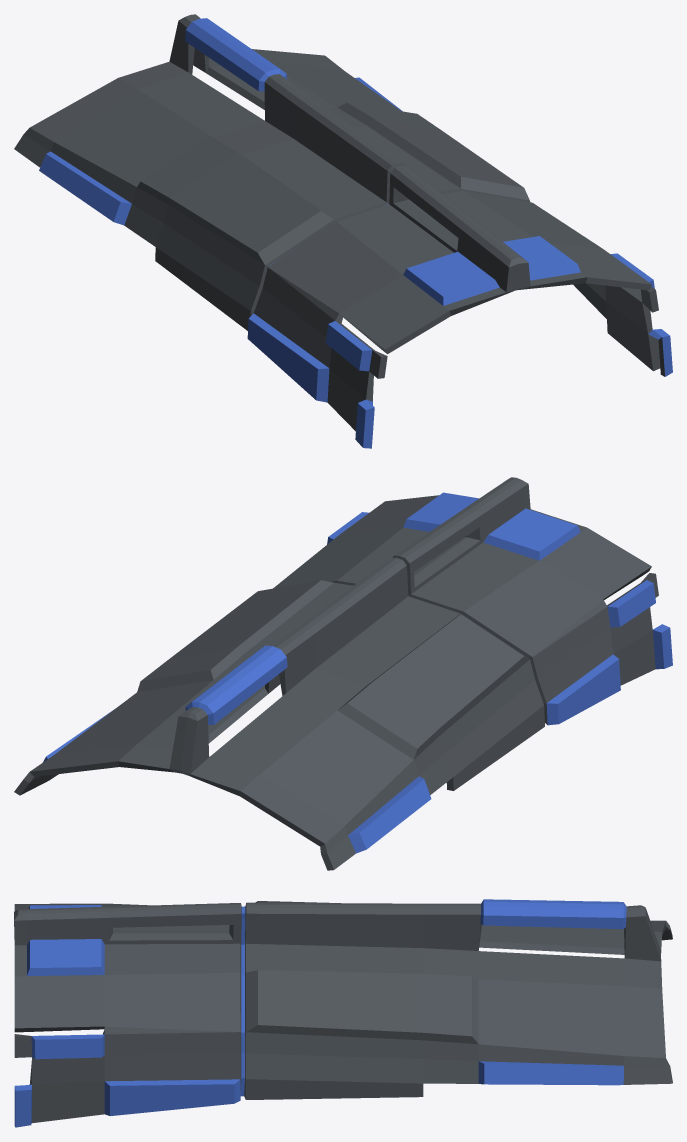
Rendered from Dropship_04_Top_Frame_Blue.fbx.
3 views of the same model, one above another, from view 1: azimuth 30°, elevation 25°; view 2: azimuth 150°, elevation 25°; view 3: azimuth 270°, elevation 25° (orthographic). The views are drawn at different scales.
Parts seen in each view (by area): view 1: Dropship_04_Top_Frame_Blue; view 2: Dropship_04_Top_Frame_Blue; view 3: Dropship_04_Top_Frame_Blue.
Part boxes in pixels (x1,y1,x2,y2): Dropship_04_Top_Frame_Blue: [14, 14, 672, 448]; Dropship_04_Top_Frame_Blue: [14, 477, 672, 870]; Dropship_04_Top_Frame_Blue: [14, 899, 672, 1127].
Bounding box in the file's own units: 437 × 208 × 798.
Materials: 1 (1 with a texture image).
